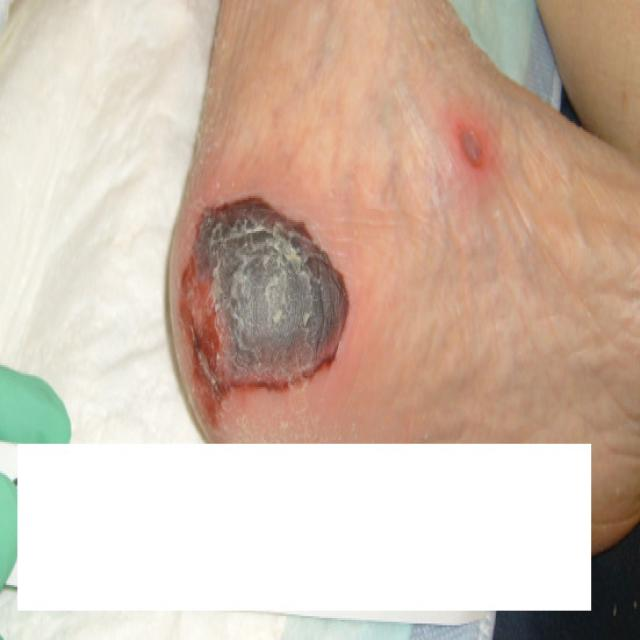Unstageable: (184, 199, 349, 396)
